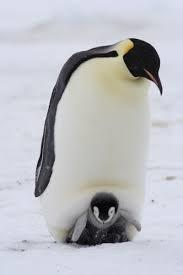emporer: (30, 32, 175, 252)
